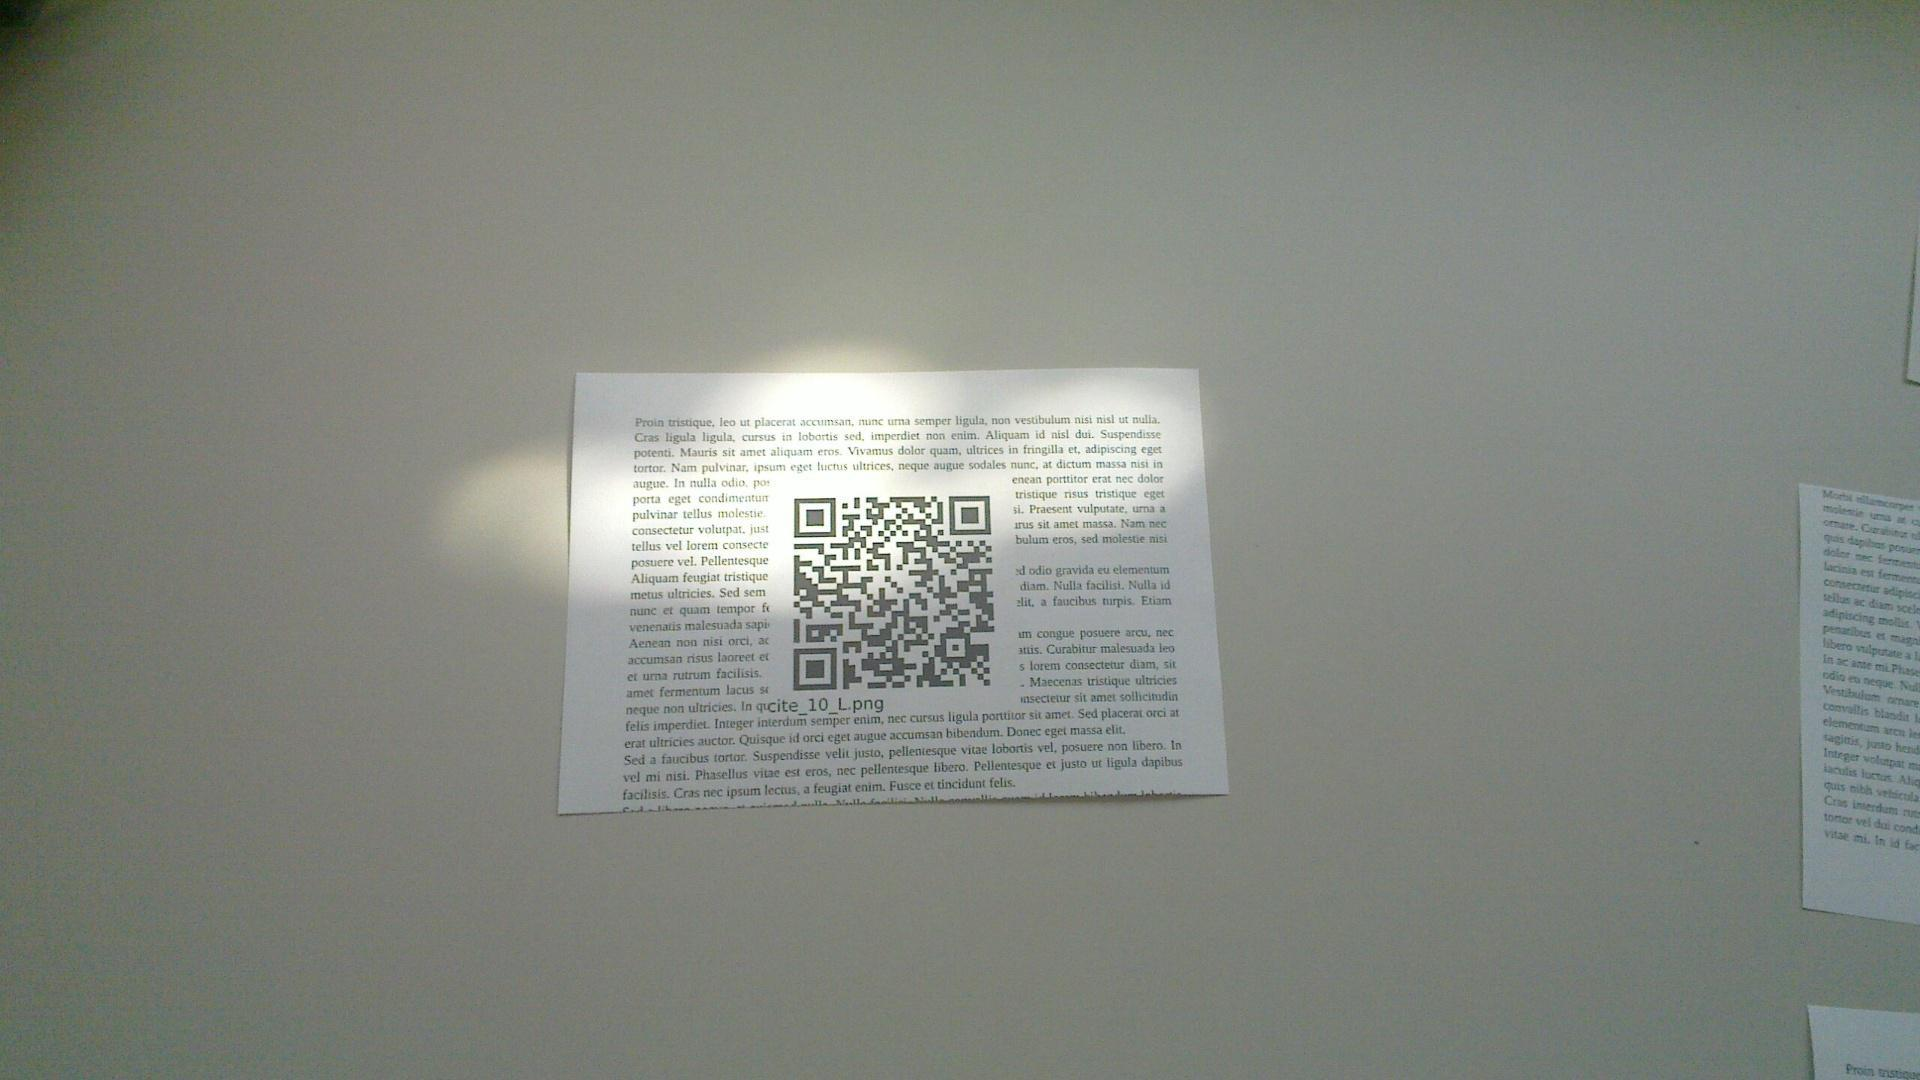Finder pattern: (791, 644, 840, 694), (944, 492, 994, 539), (790, 495, 841, 539)
